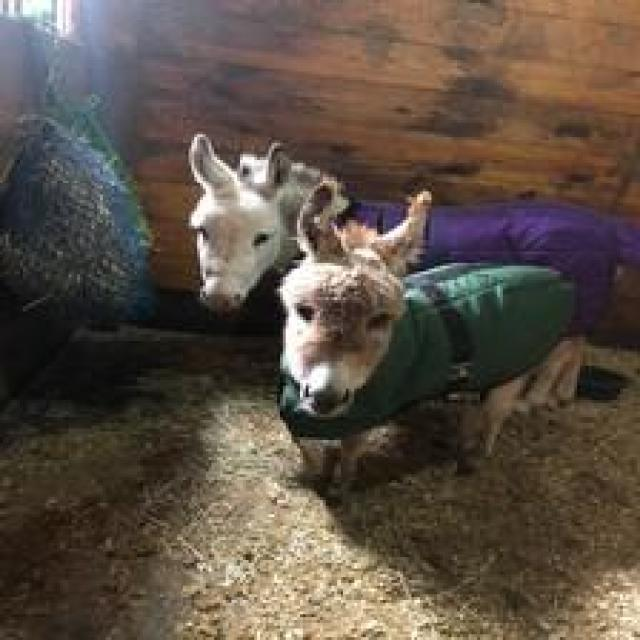Donkey: (274, 177, 586, 500), (186, 132, 354, 314)
